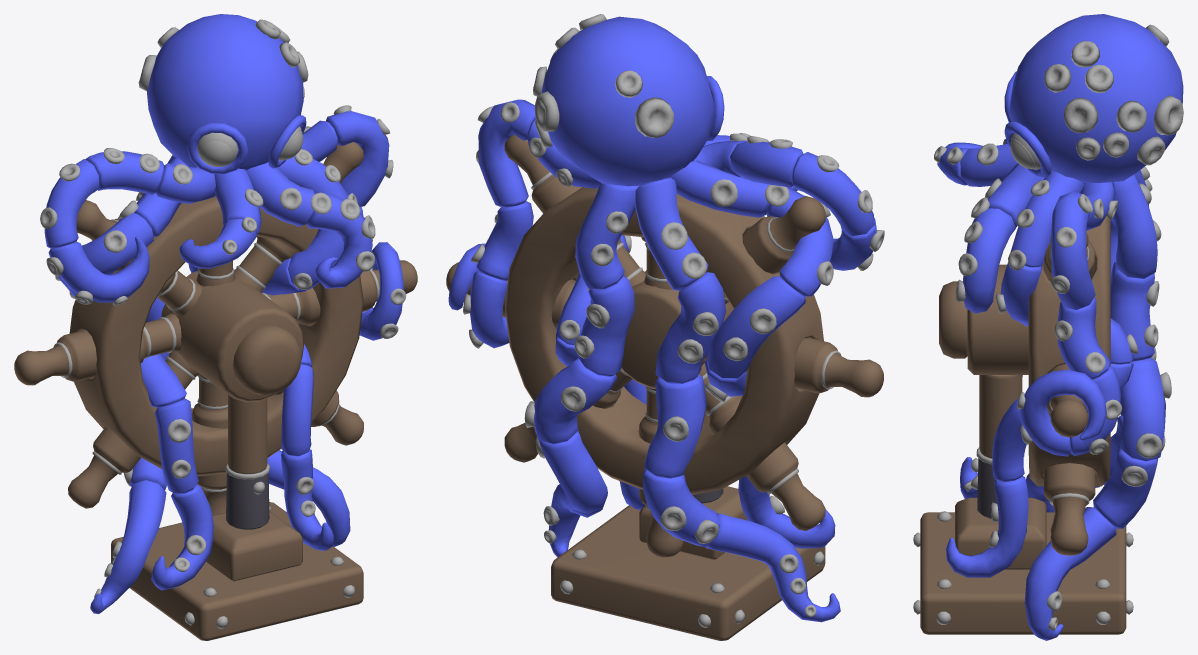
File: SteernSquid.fbx
3 views of the same model, side by side, from view 1: azimuth 30°, elevation 25°; view 2: azimuth 150°, elevation 25°; view 3: azimuth 270°, elevation 25° (orthographic). The views are drawn at different scales.
Visible parts, largest first — view 1: S_SteernSquid27, S_SteernSquid, M_SteernSquid12, M_SteernSquid1, M_SteernSquid11, M_SteernSquid59, S_SteernSquid4, S_SteernSquid13, S_SteernSquid11, S_SteernSquid8, M_SteernSquid60, S_SteernSquid7 (+29 smaller); view 2: S_SteernSquid27, S_SteernSquid, M_SteernSquid12, S_SteernSquid4, M_SteernSquid35, S_SteernSquid19, M_SteernSquid60, M_SteernSquid1, S_SteernSquid18, S_SteernSquid8, M_SteernSquid31, M_SteernSquid32 (+29 smaller); view 3: S_SteernSquid, M_SteernSquid12, S_SteernSquid27, S_SteernSquid5, M_SteernSquid1, S_SteernSquid17, S_SteernSquid16, M_SteernSquid31, M_SteernSquid62, S_SteernSquid20, S_SteernSquid8, M_SteernSquid11 (+32 smaller).
Part boxes in pixels (box(x1,y1,x2,y2)): S_SteernSquid27: box(69, 196, 363, 476); S_SteernSquid: box(147, 14, 306, 174); M_SteernSquid12: box(111, 502, 363, 640); M_SteernSquid1: box(161, 271, 304, 402); M_SteernSquid11: box(206, 511, 302, 581); M_SteernSquid59: box(14, 313, 181, 385); S_SteernSquid4: box(90, 480, 166, 614); S_SteernSquid13: box(233, 324, 301, 394); S_SteernSquid11: box(48, 236, 149, 302); S_SteernSquid8: box(326, 111, 389, 206); M_SteernSquid60: box(68, 351, 199, 508); S_SteernSquid7: box(151, 484, 213, 590); S_SteernSquid27: box(505, 187, 823, 494); S_SteernSquid: box(541, 16, 724, 186); M_SteernSquid12: box(551, 505, 825, 640); S_SteernSquid4: box(705, 513, 840, 622); M_SteernSquid35: box(706, 276, 805, 378); S_SteernSquid19: box(644, 374, 706, 478); M_SteernSquid60: box(699, 363, 825, 530); M_SteernSquid1: box(621, 281, 733, 388); S_SteernSquid18: box(655, 272, 726, 383); S_SteernSquid8: box(478, 99, 535, 207); M_SteernSquid31: box(575, 183, 638, 290); M_SteernSquid32: box(634, 177, 708, 290); S_SteernSquid: box(1004, 14, 1183, 182); M_SteernSquid12: box(920, 512, 1126, 634); S_SteernSquid27: box(1028, 217, 1110, 486); S_SteernSquid5: box(1020, 369, 1106, 456); M_SteernSquid1: box(967, 264, 1028, 374); S_SteernSquid17: box(1024, 507, 1116, 640); S_SteernSquid16: box(946, 476, 1028, 577); M_SteernSquid31: box(1113, 174, 1157, 278); M_SteernSquid62: box(1044, 463, 1095, 555); S_SteernSquid20: box(1120, 357, 1165, 461); S_SteernSquid8: box(1051, 191, 1095, 309); M_SteernSquid11: box(955, 497, 1046, 570).
Bounding box in the file's own units: 549 × 714 × 299.
